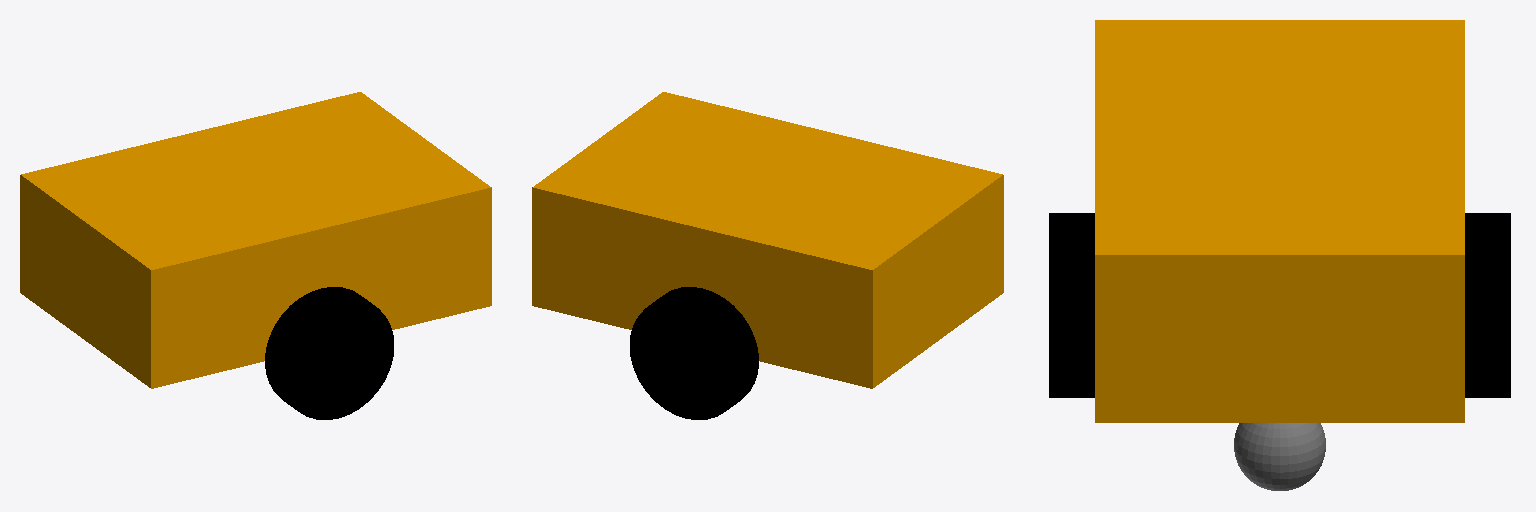
The robot description file, URDF, robot "simple_robot":
<?xml version="1.0"?>
<robot name="simple_robot">
  
  <link name="base_link">
    <visual>
      <geometry>
        <box size="0.6 0.4 0.2"/>
      </geometry>
      <material name="blue">
        <color rgba="0 0 0. 8 1"/>
      </material>
    </visual>
    <collision>
      <geometry>
        <box size="0.6 0.4 0.2"/>
      </geometry>
    </collision>
    <inertial>
      <mass value="10. 0"/>
      <inertia ixx="0.4" ixy="0.0" ixz="0.0" iyy="0.4" iyz="0.0" izz="0.4"/>
    </inertial>
  </link>

  <link name="left_wheel">
    <visual>
      <geometry>
        <cylinder radius="0.1" length="0.05"/>
      </geometry>
      <material name="black">
        <color rgba="0 0 0 1"/>
      </material>
    </visual>
    <collision>
      <geometry>
        <cylinder radius="0.1" length="0.05"/>
      </geometry>
    </collision>
    <inertial>
      <mass value="1.0"/>
      <inertia ixx="0.01" ixy="0.0" ixz="0.0" iyy="0.01" iyz="0.0" izz="0.01"/>
    </inertial>
  </link>

  <joint name="left_wheel_joint" type="continuous">
    <parent link="base_link"/>
    <child link="left_wheel"/>
    <origin xyz="0 0.225 -0.1" rpy="-1.5707 0 0"/>
    <axis xyz="0 0 1"/>
  </joint>

  <link name="right_wheel">
    <visual>
      <geometry>
        <cylinder radius="0.1" length="0.05"/>
      </geometry>
      <material name="black">
        <color rgba="0 0 0 1"/>
      </material>
    </visual>
    <collision>
      <geometry>
        <cylinder radius="0.1" length="0.05"/>
      </geometry>
    </collision>
    <inertial>
      <mass value="1.0"/>
      <inertia ixx="0.01" ixy="0.0" ixz="0.0" iyy="0.01" iyz="0.0" izz="0.01"/>
    </inertial>
  </link>

  <joint name="right_wheel_joint" type="continuous">
    <parent link="base_link"/>
    <child link="right_wheel"/>
    <origin xyz="0 -0.225 -0.1" rpy="-1.5707 0 0"/>
    <axis xyz="0 0 1"/>
  </joint>

  <link name="caster_wheel">
    <visual>
      <geometry>
        <sphere radius="0.05"/>
      </geometry>
      <material name="gray">
        <color rgba="0.5 0.5 0.5 1"/>
      </material>
    </visual>
    <collision>
      <geometry>
        <sphere radius="0.05"/>
      </geometry>
    </collision>
    <inertial>
      <mass value="0.5"/>
      <inertia ixx="0.001" ixy="0.0" ixz="0.0" iyy="0.001" iyz="0.0" izz="0.001"/>
    </inertial>
  </link>

  <joint name="caster_wheel_joint" type="fixed">
    <parent link="base_link"/>
    <child link="caster_wheel"/>
    <origin xyz="0.25 0 -0.15" rpy="0 0 0"/>
  </joint>

  <gazebo reference="left_wheel">
    <mu1>1.0</mu1>
    <mu2>1.0</mu2>
    <kp>1000000.0</kp>
    <kd>100.0</kd>
    <material>Gazebo/Black</material>
  </gazebo>

  <gazebo reference="right_wheel">
    <mu1>1.0</mu1>
    <mu2>1.0</mu2>
    <kp>1000000.0</kp>
    <kd>100.0</kd>
    <material>Gazebo/Black</material>
  </gazebo>

  <gazebo reference="caster_wheel">
    <mu1>0.1</mu1>
    <mu2>0.1</mu2>
    <material>Gazebo/Grey</material>
  </gazebo>

  <gazebo reference="base_link">
    <material>Gazebo/Blue</material>
  </gazebo>

  <gazebo>
    <plugin name="diff_drive" filename="libgazebo_ros_diff_drive. so">
      <update_rate>50</update_rate>
      <left_joint>left_wheel_joint</left_joint>
      <right_joint>right_wheel_joint</right_joint>
      <wheel_separation>0.45</wheel_separation>
      <wheel_diameter>0.2</wheel_diameter>
      <max_wheel_torque>100</max_wheel_torque>
      <max_wheel_acceleration>500.0</max_wheel_acceleration>
      <command_topic>cmd_vel</command_topic>
      <publish_odom>true</publish_odom>
      <publish_odom_tf>true</publish_odom_tf>
      <publish_wheel_tf>false</publish_wheel_tf>
      <odometry_topic>odom</odometry_topic>
      <odometry_frame>odom</odometry_frame>
      <robot_base_frame>base_link</robot_base_frame>
    </plugin>
  </gazebo>

</robot>

--- Render facts (derived) ---
3 views of the same robot in one strip: view 1: azimuth 30°, elevation 25°; view 2: azimuth 150°, elevation 25°; view 3: azimuth 270°, elevation 25° (orthographic).
Robot: simple_robot — 4 links, 3 joints (2 continuous, 1 fixed); root link base_link; default pose: every joint at zero.
Links seen in each view (by area): view 1: base_link, right_wheel; view 2: base_link, left_wheel; view 3: base_link, left_wheel, right_wheel, caster_wheel.
Boxes of the visible links, bbox=[...] form: base_link: bbox=[20, 92, 491, 388]; right_wheel: bbox=[265, 287, 393, 419]; base_link: bbox=[532, 92, 1003, 388]; left_wheel: bbox=[630, 287, 758, 419]; base_link: bbox=[1095, 20, 1464, 422]; left_wheel: bbox=[1465, 213, 1510, 397]; right_wheel: bbox=[1049, 213, 1094, 397]; caster_wheel: bbox=[1234, 423, 1325, 490].
Bounding box of the posed robot: 0.6 × 0.5 × 0.3 m (x, y, z).
Geometry: primitives only (box / cylinder / sphere), no mesh files.